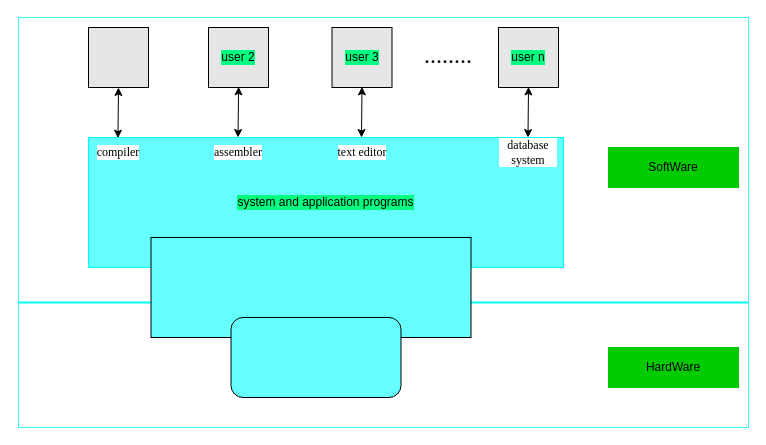
Some shapes in this 766 by 445 pixel diagram are drawn without their labels. Each missing label, with the centre of its shape:
"computer hardware" goes at [315,357].
"operating system" goes at [310,287].
"user 1" goes at [118,57].
